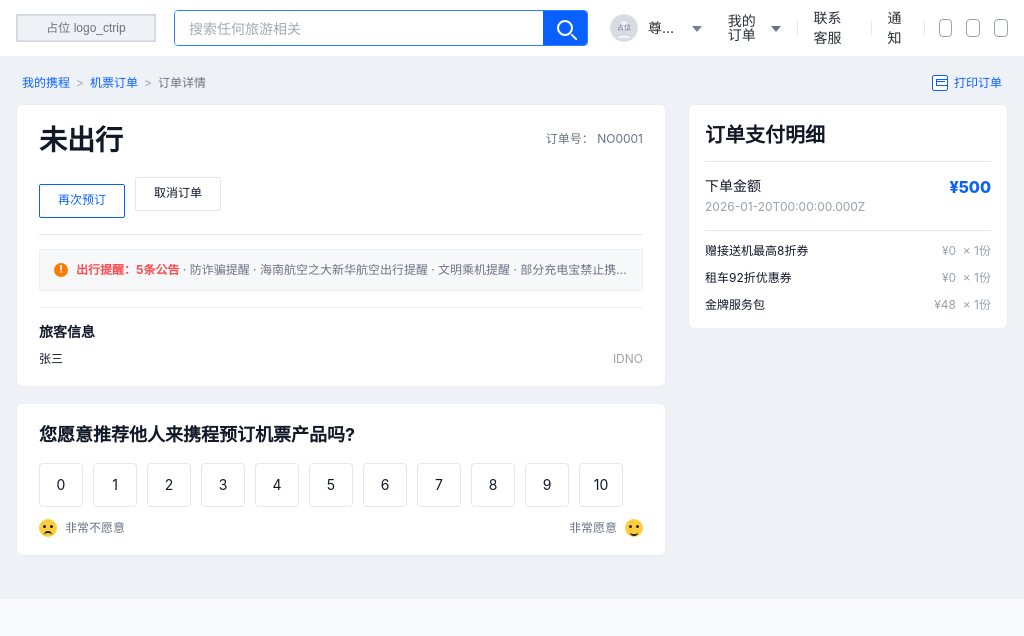
Test: 订单详情 - 场景用例 › Scenario: 取消订单确认后刷新并展示已取消横幅
Click the button "取消订单".
click(178, 194)  # box [135,177,221,211]
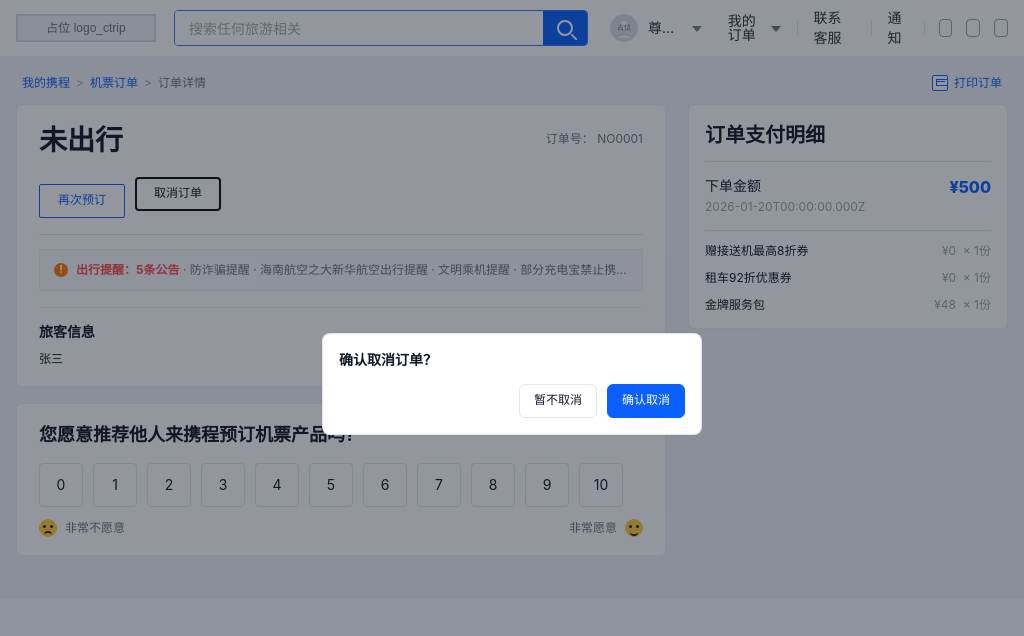
Click the button "确认取消".
click(646, 401)  # box [607,384,685,418]
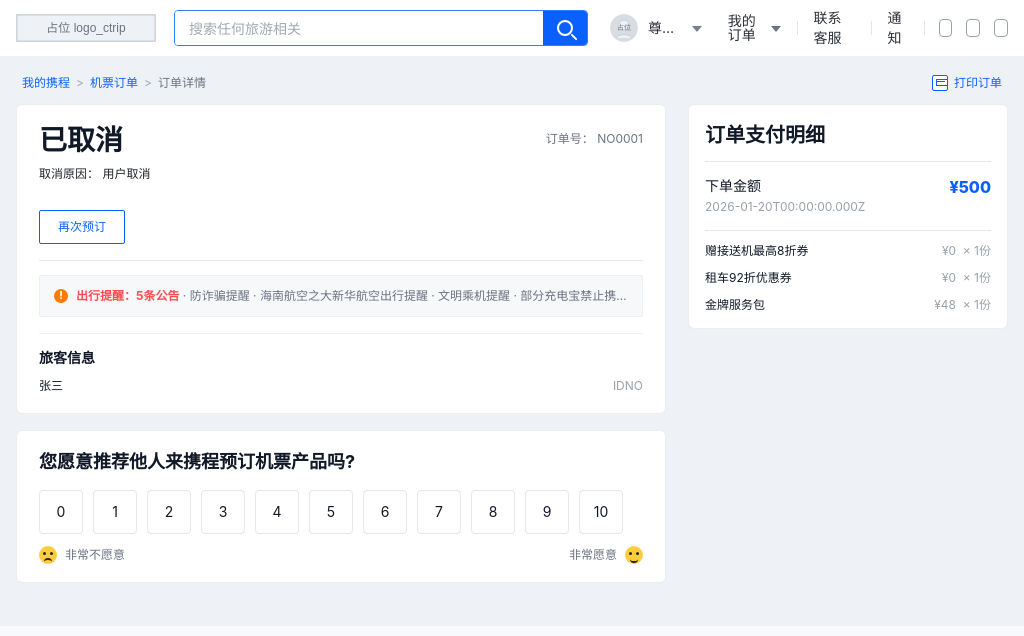
Result: the text "已取消" is shown at [39,123,123,157]
